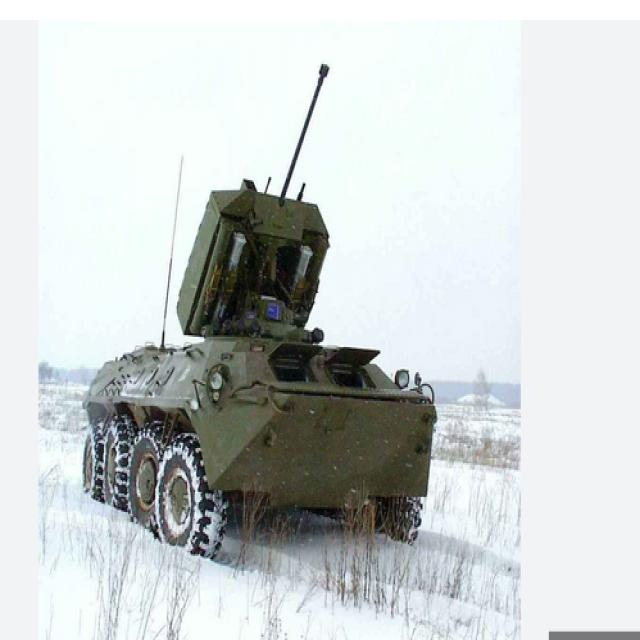MIL_APC: (86, 202, 443, 558)
